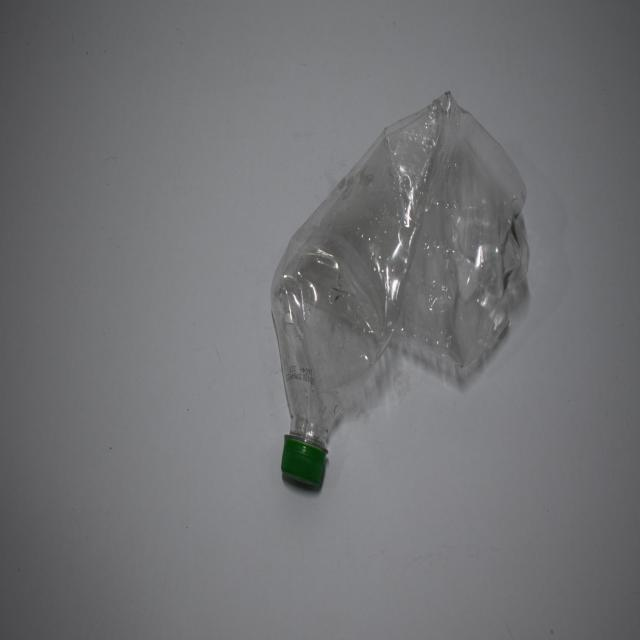bottle: (265, 53, 529, 506)
